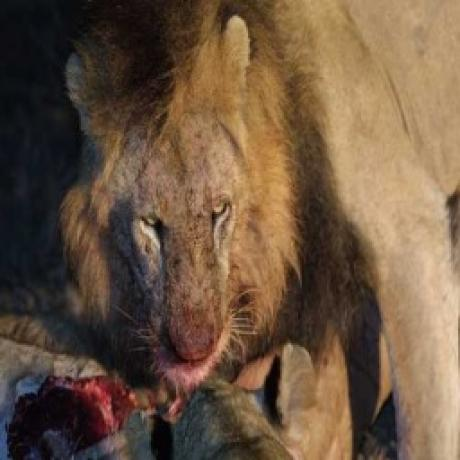Lion: (57, 0, 460, 460)
